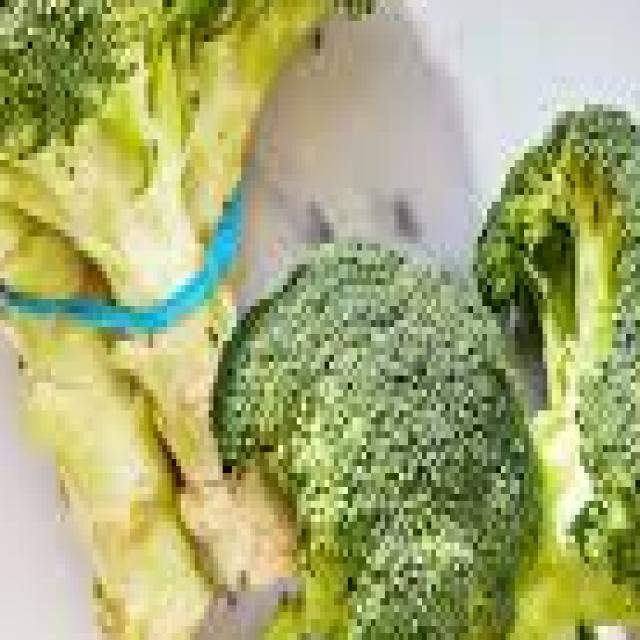broccoli: (215, 252, 543, 640), (477, 94, 640, 640)
